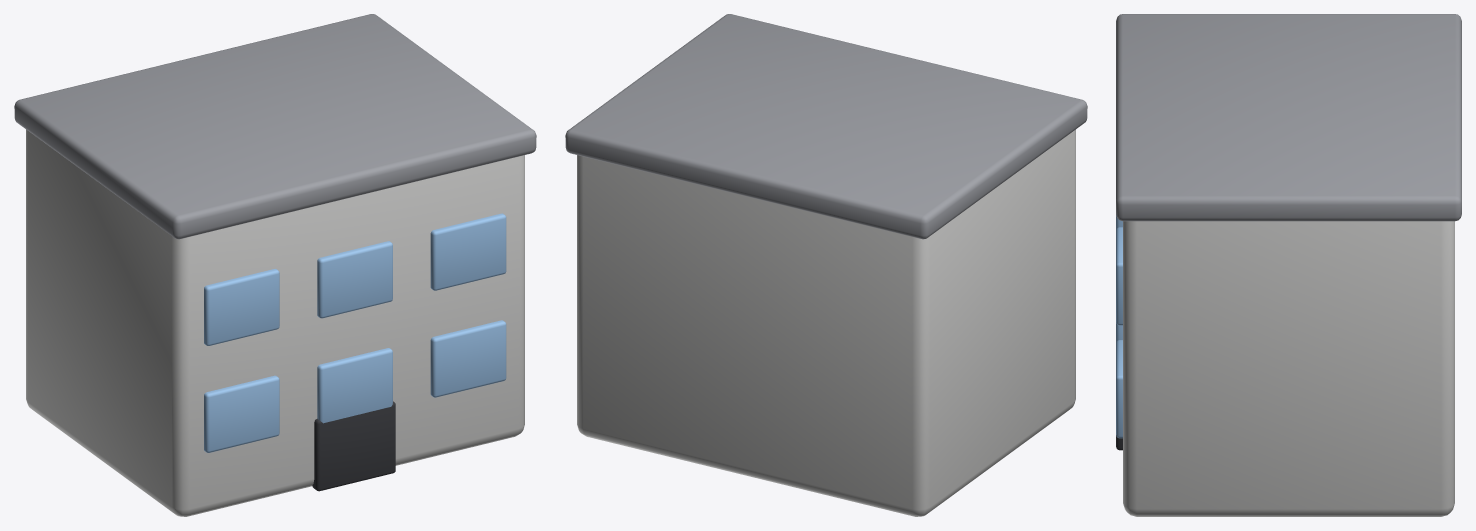
File: career--yumemi.glb
3 views of the same model, side by side, from view 1: azimuth 30°, elevation 25°; view 2: azimuth 150°, elevation 25°; view 3: azimuth 270°, elevation 25° (orthographic). The views are drawn at different scales.
Visible parts, largest first — view 1: career--yumemi; view 2: career--yumemi; view 3: career--yumemi.
Part boxes in pixels (box(x1,y1,x2,y2)): career--yumemi: box(14, 14, 536, 516); career--yumemi: box(565, 14, 1087, 516); career--yumemi: box(1116, 14, 1461, 516).
Size of the model in its own units: 0.6401 by 0.52 by 0.5.
